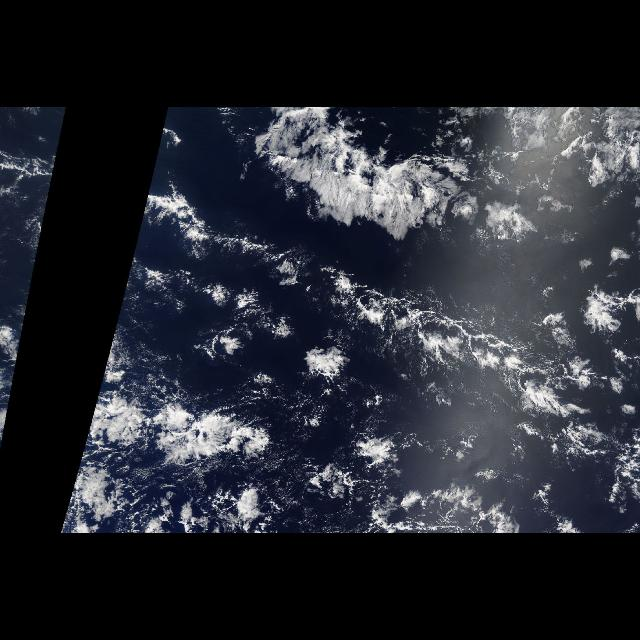Fish: (171, 108, 633, 480)
